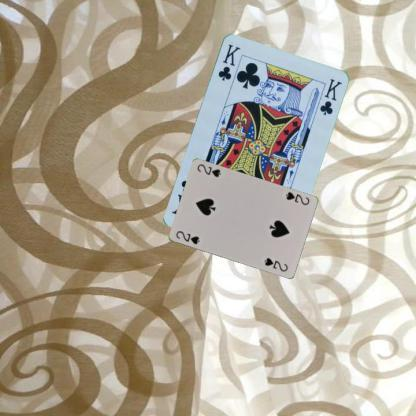2s: (282, 189, 310, 207), (174, 228, 200, 246)
Kc: (216, 41, 242, 82)
